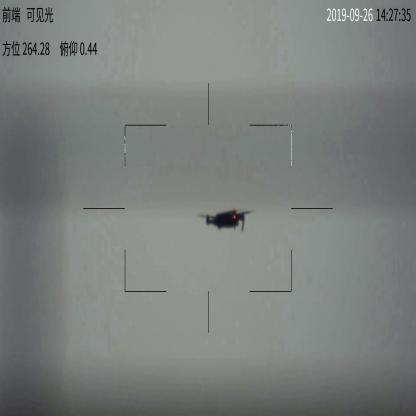uav: (195, 207, 250, 234)
